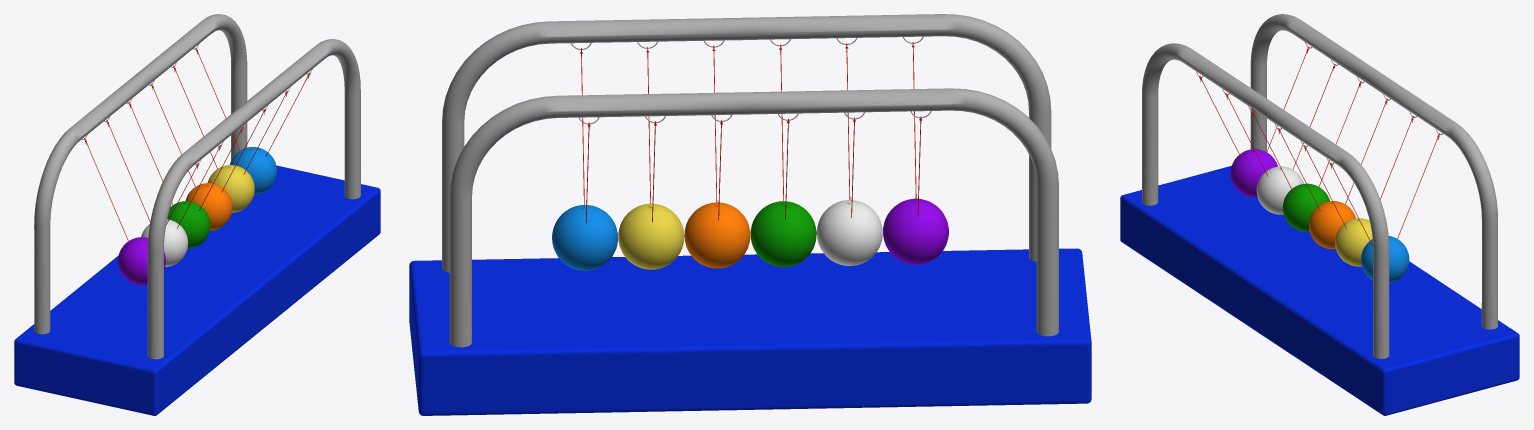
The model's file is Newton_Cradle.fbx.
The picture shows the model from 3 angles, left to right: view 1: azimuth 30°, elevation 25°; view 2: azimuth 150°, elevation 25°; view 3: azimuth 270°, elevation 25°; orthographic projection. The views are drawn at different scales.
Parts seen in each view (by area): view 1: Newton_Cradle; view 2: Newton_Cradle; view 3: Newton_Cradle.
Part boxes in pixels (<box>): Newton_Cradle: <box>14,14,380,415</box>; Newton_Cradle: <box>409,14,1091,415</box>; Newton_Cradle: <box>1120,14,1519,415</box>.
Size of the model in its own units: 29.36 by 14.62 by 23.44.
